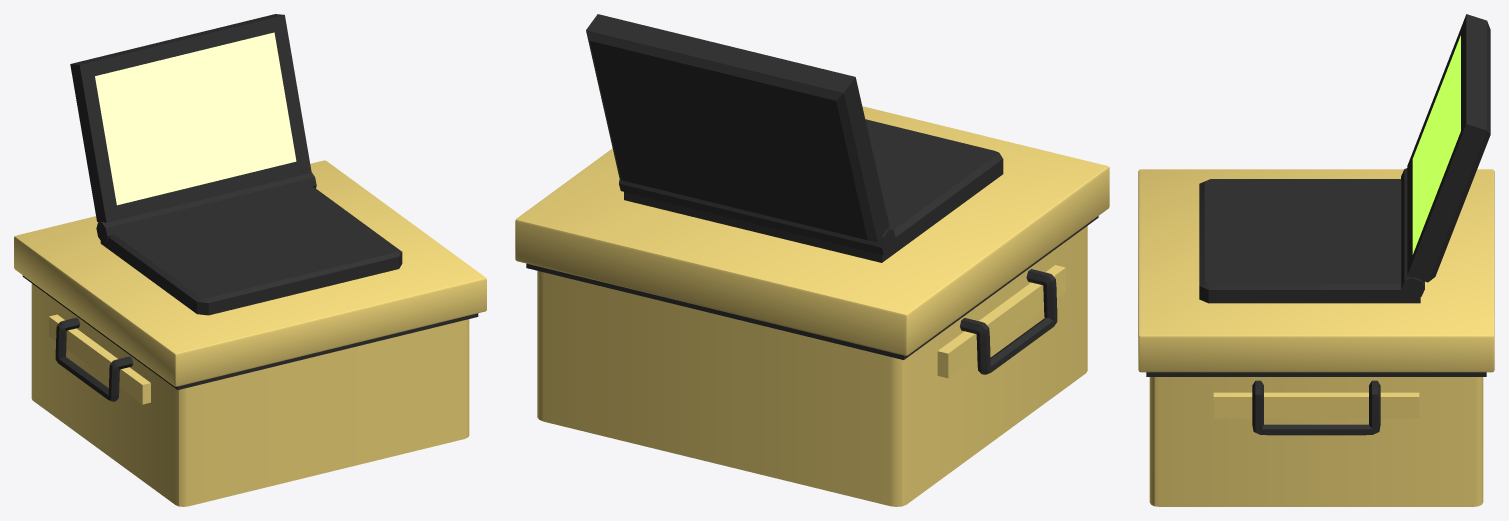
The model's file is labTopOnBox.fbx.
3 renders of one model, left to right at view 1: azimuth 30°, elevation 25°; view 2: azimuth 150°, elevation 25°; view 3: azimuth 270°, elevation 25°, orthographic. The views are drawn at different scales.
Visible parts, largest first — view 1: Cube.048; view 2: Cube.048; view 3: Cube.048.
Boxes of the visible parts, x1,y1,x2,y2 form: Cube.048: (14, 14, 486, 506); Cube.048: (515, 14, 1109, 506); Cube.048: (1138, 14, 1494, 506).
Bounding box in the file's own units: 73.88 × 69.1 × 62.05.
